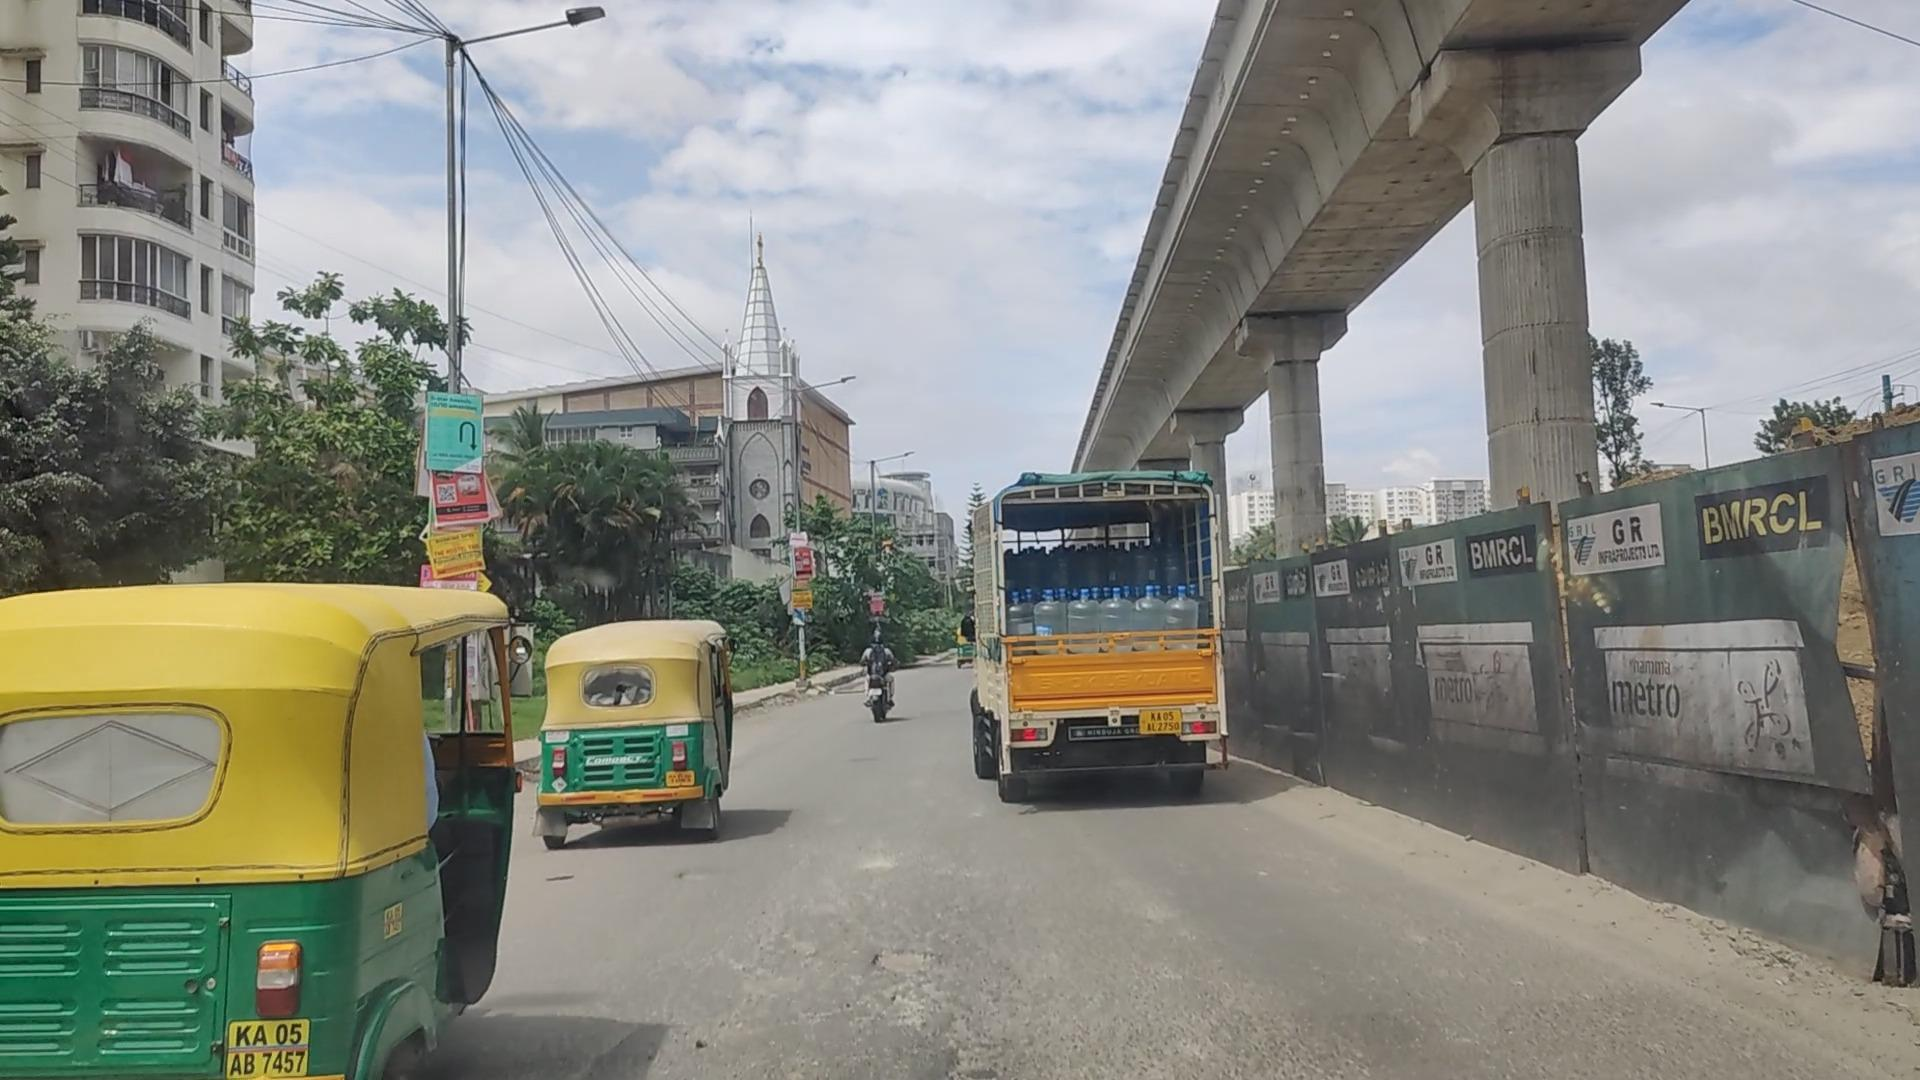HMV: (955, 430, 1246, 828)
LMV: (0, 597, 500, 1080), (547, 615, 736, 848), (852, 617, 894, 732)
RoadDamages: (851, 922, 982, 1048)
